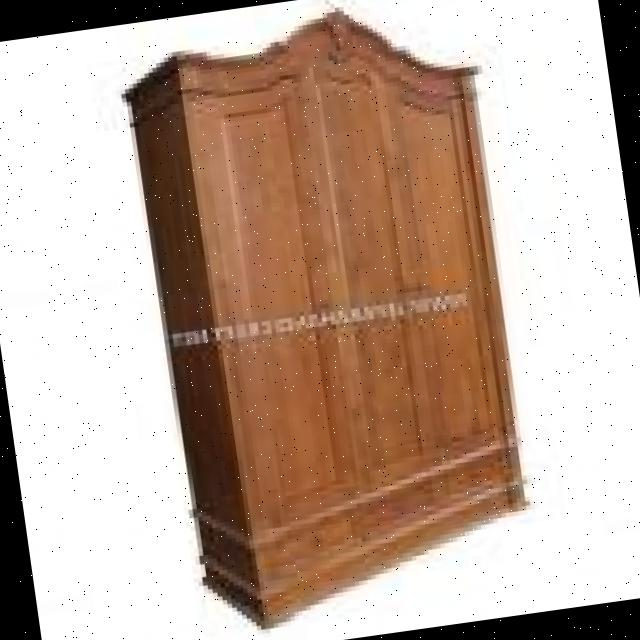Closet: (108, 0, 569, 640)
